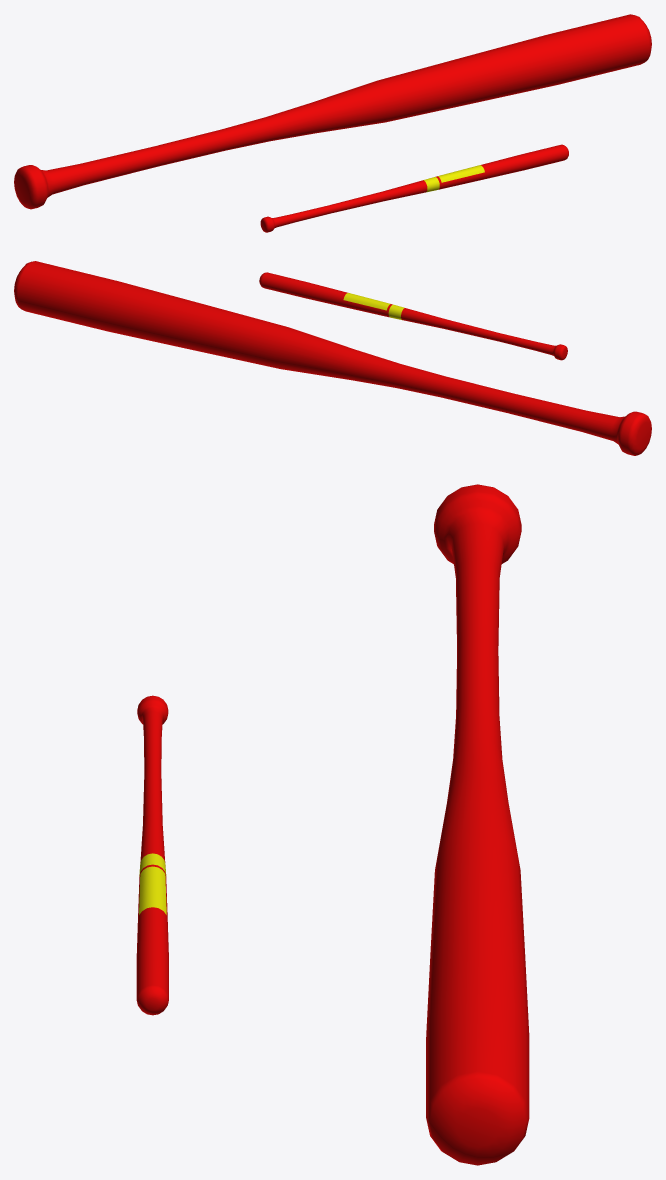
File: thorkea_baseball_bats_grp.fbx
3 renders of one model, top to bottom at view 1: azimuth 30°, elevation 25°; view 2: azimuth 150°, elevation 25°; view 3: azimuth 270°, elevation 25°, orthographic. The views are drawn at different scales.
Visible parts, largest first — view 1: thorkea_baseball_bat_fun_costumes, thorkea_baseball_bat_rawlings; view 2: thorkea_baseball_bat_fun_costumes, thorkea_baseball_bat_rawlings; view 3: thorkea_baseball_bat_fun_costumes, thorkea_baseball_bat_rawlings.
Part boxes in pixels (box(x1,y1,x2,y2)): thorkea_baseball_bat_fun_costumes: box(14, 14, 651, 209); thorkea_baseball_bat_rawlings: box(260, 144, 568, 232); thorkea_baseball_bat_fun_costumes: box(14, 261, 651, 455); thorkea_baseball_bat_rawlings: box(259, 272, 567, 360); thorkea_baseball_bat_fun_costumes: box(426, 484, 529, 1165); thorkea_baseball_bat_rawlings: box(136, 695, 168, 1015).
Size of the model in its own units: 88.57 by 6.36 by 24.18.
